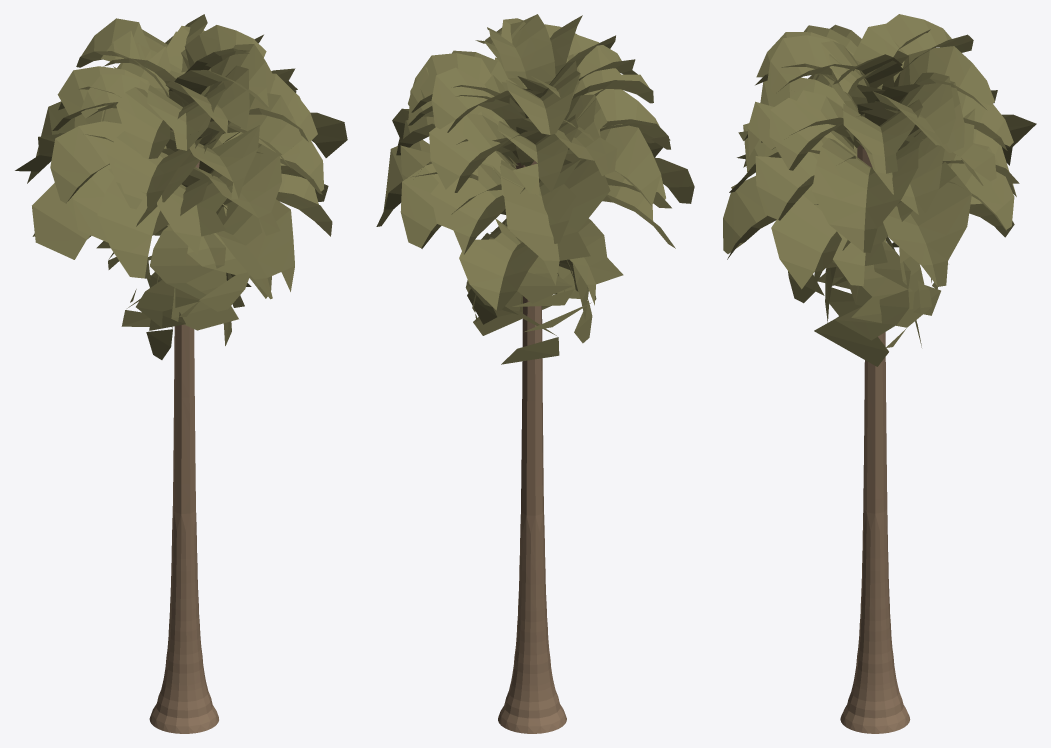
File: palm-tall.lod2.glb
3 renders of one model, left to right at view 1: azimuth 30°, elevation 25°; view 2: azimuth 150°, elevation 25°; view 3: azimuth 270°, elevation 25°, orthographic.
Parts seen in each view (by area): view 1: Tree_1_Plam_4_Trunk_0; view 2: Tree_1_Plam_4_Trunk_0; view 3: Tree_1_Plam_4_Trunk_0.
Boxes of the visible parts, x1,y1,x2,y2 form: Tree_1_Plam_4_Trunk_0: (15,14,347,733); Tree_1_Plam_4_Trunk_0: (376,14,694,733); Tree_1_Plam_4_Trunk_0: (723,14,1036,733).
Size of the model in its own units: 6.13 by 14 by 5.8.
